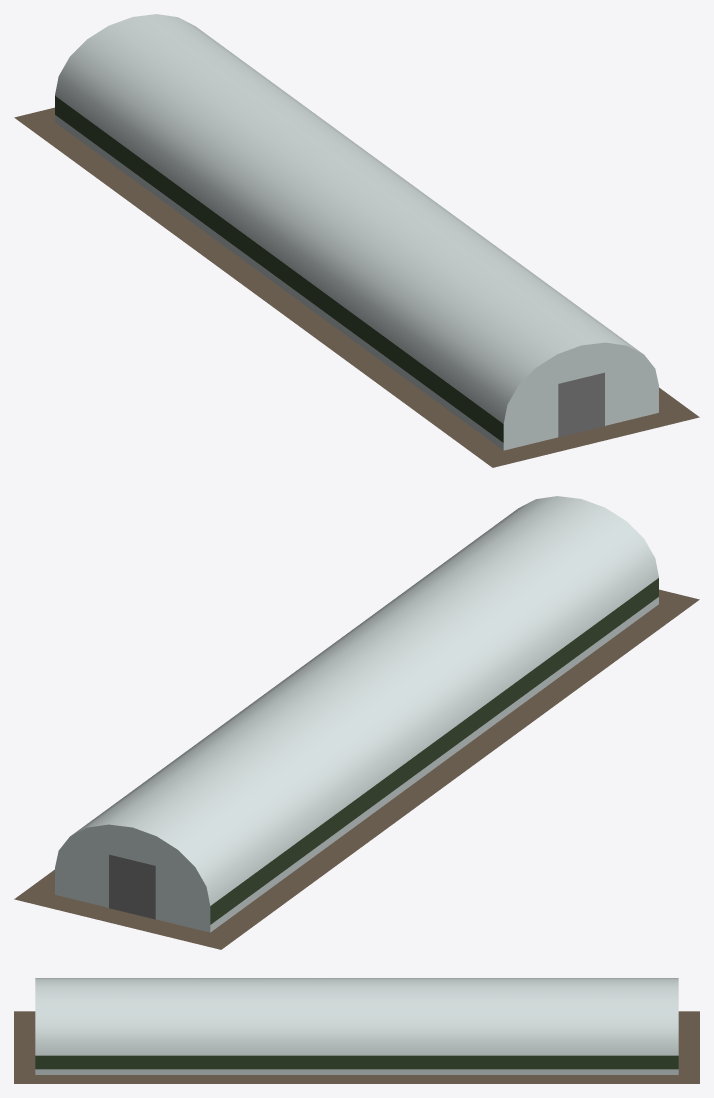
The model's file is tile.fbx.
The picture shows the model from 3 angles, top to bottom: view 1: azimuth 30°, elevation 25°; view 2: azimuth 150°, elevation 25°; view 3: azimuth 270°, elevation 25°; orthographic projection. The views are drawn at different scales.
Parts seen in each view (by area): view 1: a1002/500/tile; view 2: a1002/500/tile; view 3: a1002/500/tile.
Boxes of the visible parts, box(x1,y1,x2,y2) form: a1002/500/tile: box(14, 14, 699, 467); a1002/500/tile: box(14, 496, 699, 949); a1002/500/tile: box(14, 978, 699, 1083).
Size of the model in its own units: 8 by 3.2 by 32.
